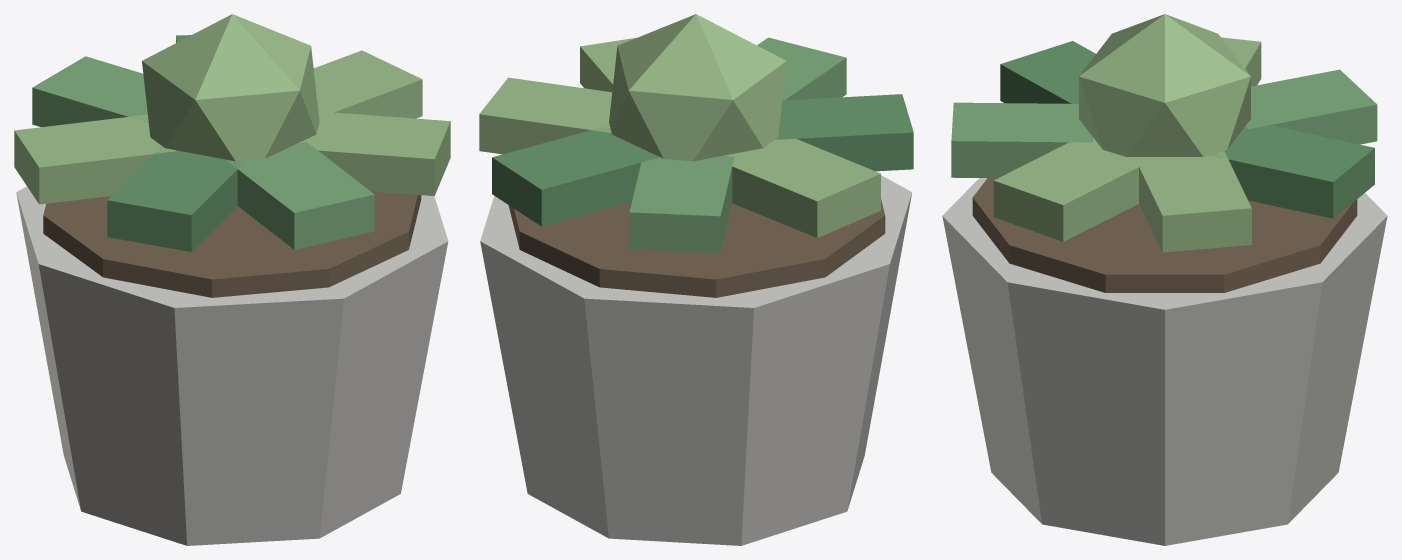
The model's file is pla_suculenta_sala.glb.
3 renders of one model, left to right at view 1: azimuth 30°, elevation 25°; view 2: azimuth 150°, elevation 25°; view 3: azimuth 270°, elevation 25°, orthographic.
Parts seen in each view (by area): view 1: PLA_SUCULENTA_SALA_v01; view 2: PLA_SUCULENTA_SALA_v01; view 3: PLA_SUCULENTA_SALA_v01.
Boxes of the visible parts, box(x1,y1,x2,y2) form: PLA_SUCULENTA_SALA_v01: box(14, 14, 450, 545); PLA_SUCULENTA_SALA_v01: box(479, 14, 913, 545); PLA_SUCULENTA_SALA_v01: box(942, 14, 1387, 545).
Bounding box in the file's own units: 0.22 × 0.25 × 0.22.
